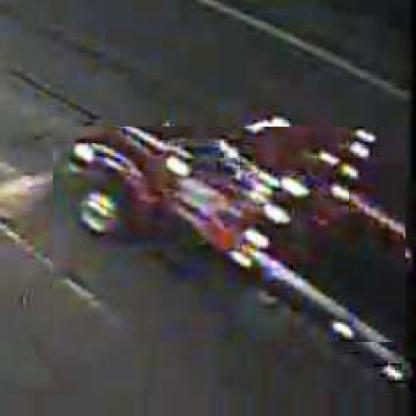container: (52, 128, 407, 345)
